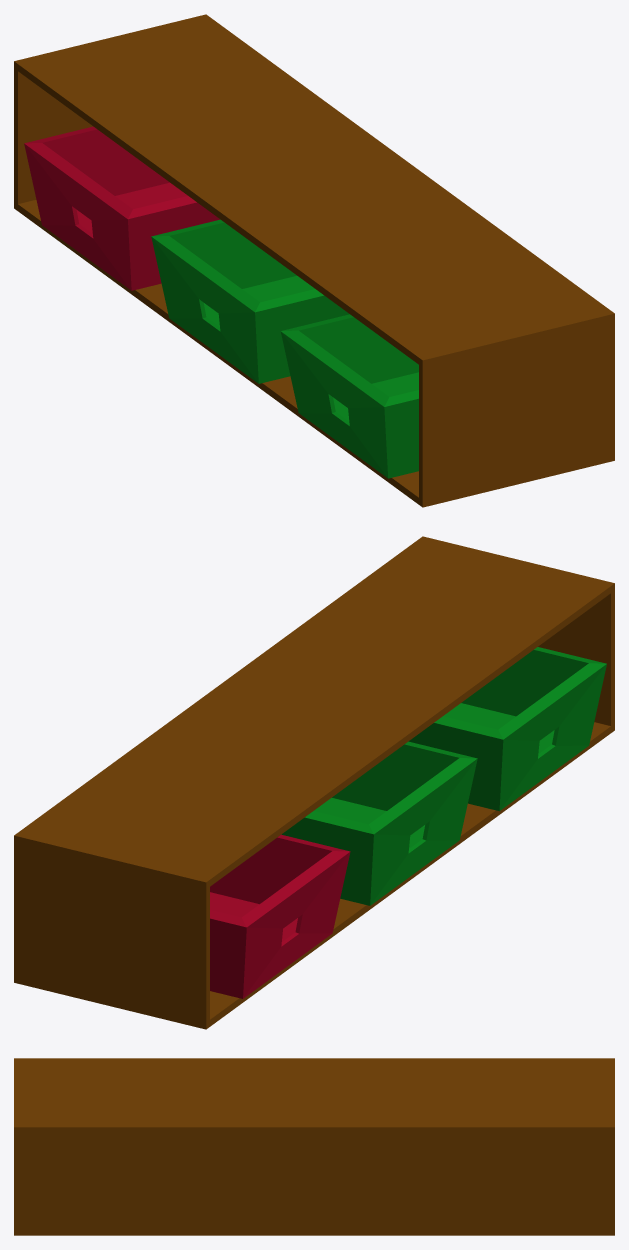
Rendered from Model_shelf.fbx.
The picture shows the model from 3 angles, top to bottom: view 1: azimuth 30°, elevation 25°; view 2: azimuth 150°, elevation 25°; view 3: azimuth 270°, elevation 25°; orthographic projection. The views are drawn at different scales.
Visible parts, largest first — view 1: Cube.001; view 2: Cube.001; view 3: Cube.001.
Boxes of the visible parts, x1=… form: Cube.001: x1=14, y1=14, x2=614, y2=507; Cube.001: x1=14, y1=536, x2=614, y2=1029; Cube.001: x1=14, y1=1058, x2=614, y2=1235.
Size of the model in its own units: 216 by 146 by 737.
